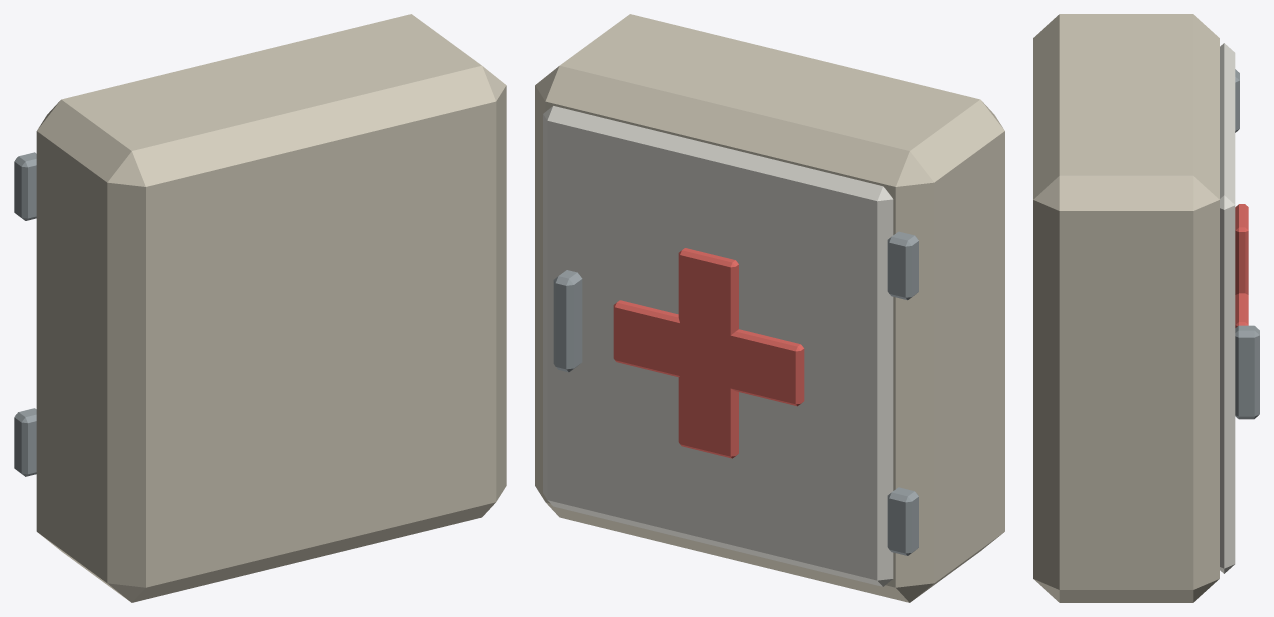
File: BUILD0040_MedicalWallCabinet.fbx
The picture shows the model from 3 angles, left to right: view 1: azimuth 30°, elevation 25°; view 2: azimuth 150°, elevation 25°; view 3: azimuth 270°, elevation 25°; orthographic projection. The views are drawn at different scales.
Parts seen in each view (by area): view 1: BUILD0040_MedicalWallCabinet; view 2: BUILD0040_MedicalWallCabinet; view 3: BUILD0040_MedicalWallCabinet.
Part boxes in pixels (<box>): BUILD0040_MedicalWallCabinet: <box>14,14,506,602</box>; BUILD0040_MedicalWallCabinet: <box>535,14,1004,602</box>; BUILD0040_MedicalWallCabinet: <box>1033,14,1259,602</box>.
Bounding box in the file's own units: 0.98 × 1.06 × 0.51.
